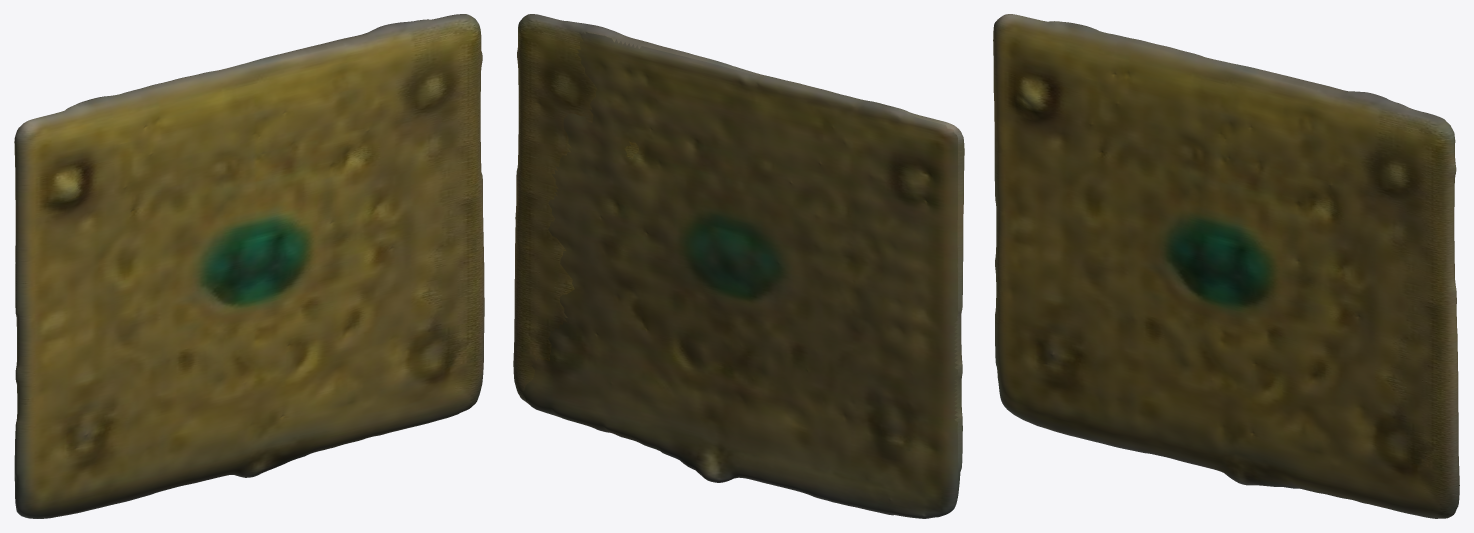
File: kfl-2283.glb
3 views of the same model, side by side, from view 1: azimuth 30°, elevation 25°; view 2: azimuth 150°, elevation 25°; view 3: azimuth 330°, elevation 25° (orthographic). The views are drawn at different scales.
Visible parts, largest first — view 1: geometry_0; view 2: geometry_0; view 3: geometry_0.
Boxes of the visible parts, x1,y1,x2,y2 form: geometry_0: (14,14,484,518); geometry_0: (513,14,964,518); geometry_0: (993,14,1459,518).
Size of the model in its own units: 0.9913 by 0.8681 by 0.095.
Materials: 1 (1 with a texture image).
